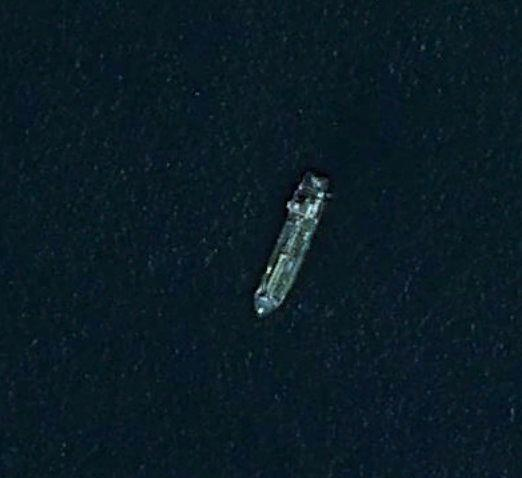Boat: (248, 168, 336, 321)
